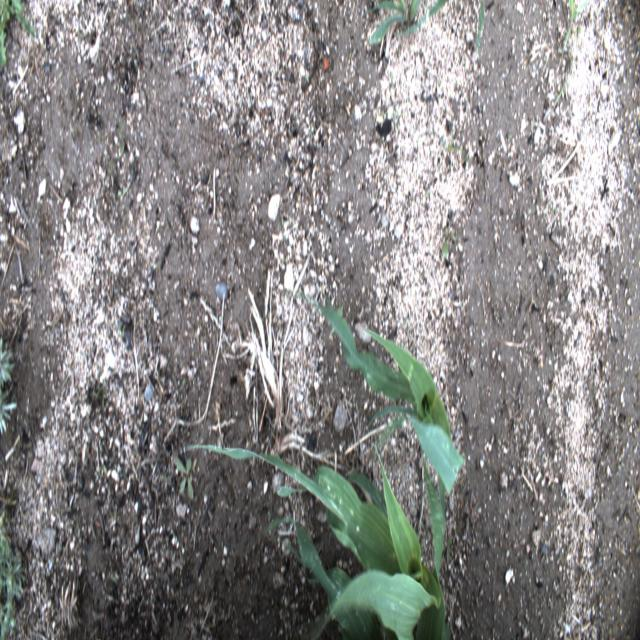crop: (180, 437, 454, 638), (282, 290, 466, 580)
weed: (370, 0, 447, 46), (0, 510, 22, 637), (0, 2, 33, 70), (0, 332, 20, 437), (559, 1, 588, 65), (555, 40, 579, 108), (173, 452, 198, 503), (432, 220, 456, 266), (434, 125, 469, 156), (474, 0, 488, 49), (419, 172, 437, 210), (272, 202, 291, 234), (116, 133, 130, 162)
